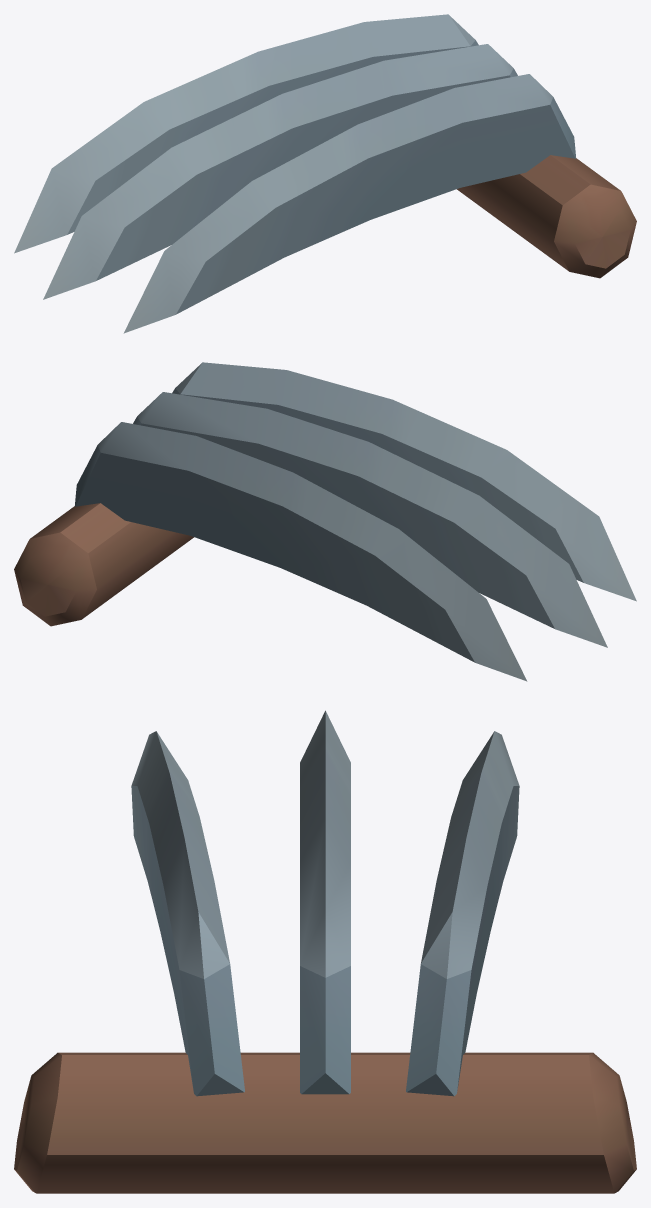
Rendered from fistweapon_b.bd846a40.glb.
3 views of the same model, one above another, from view 1: azimuth 30°, elevation 25°; view 2: azimuth 150°, elevation 25°; view 3: azimuth 270°, elevation 25° (orthographic). The views are drawn at different scales.
Visible parts, largest first — view 1: fistweapon_B; view 2: fistweapon_B; view 3: fistweapon_B.
Part boxes in pixels (x1,y1,x2,y2): fistweapon_B: (14,14,636,333); fistweapon_B: (14,362,636,681); fistweapon_B: (14,710,636,1193).
Size of the model in its own units: 0.5206 by 0.1764 by 0.3554.
Materials: 1 (1 with a texture image).
